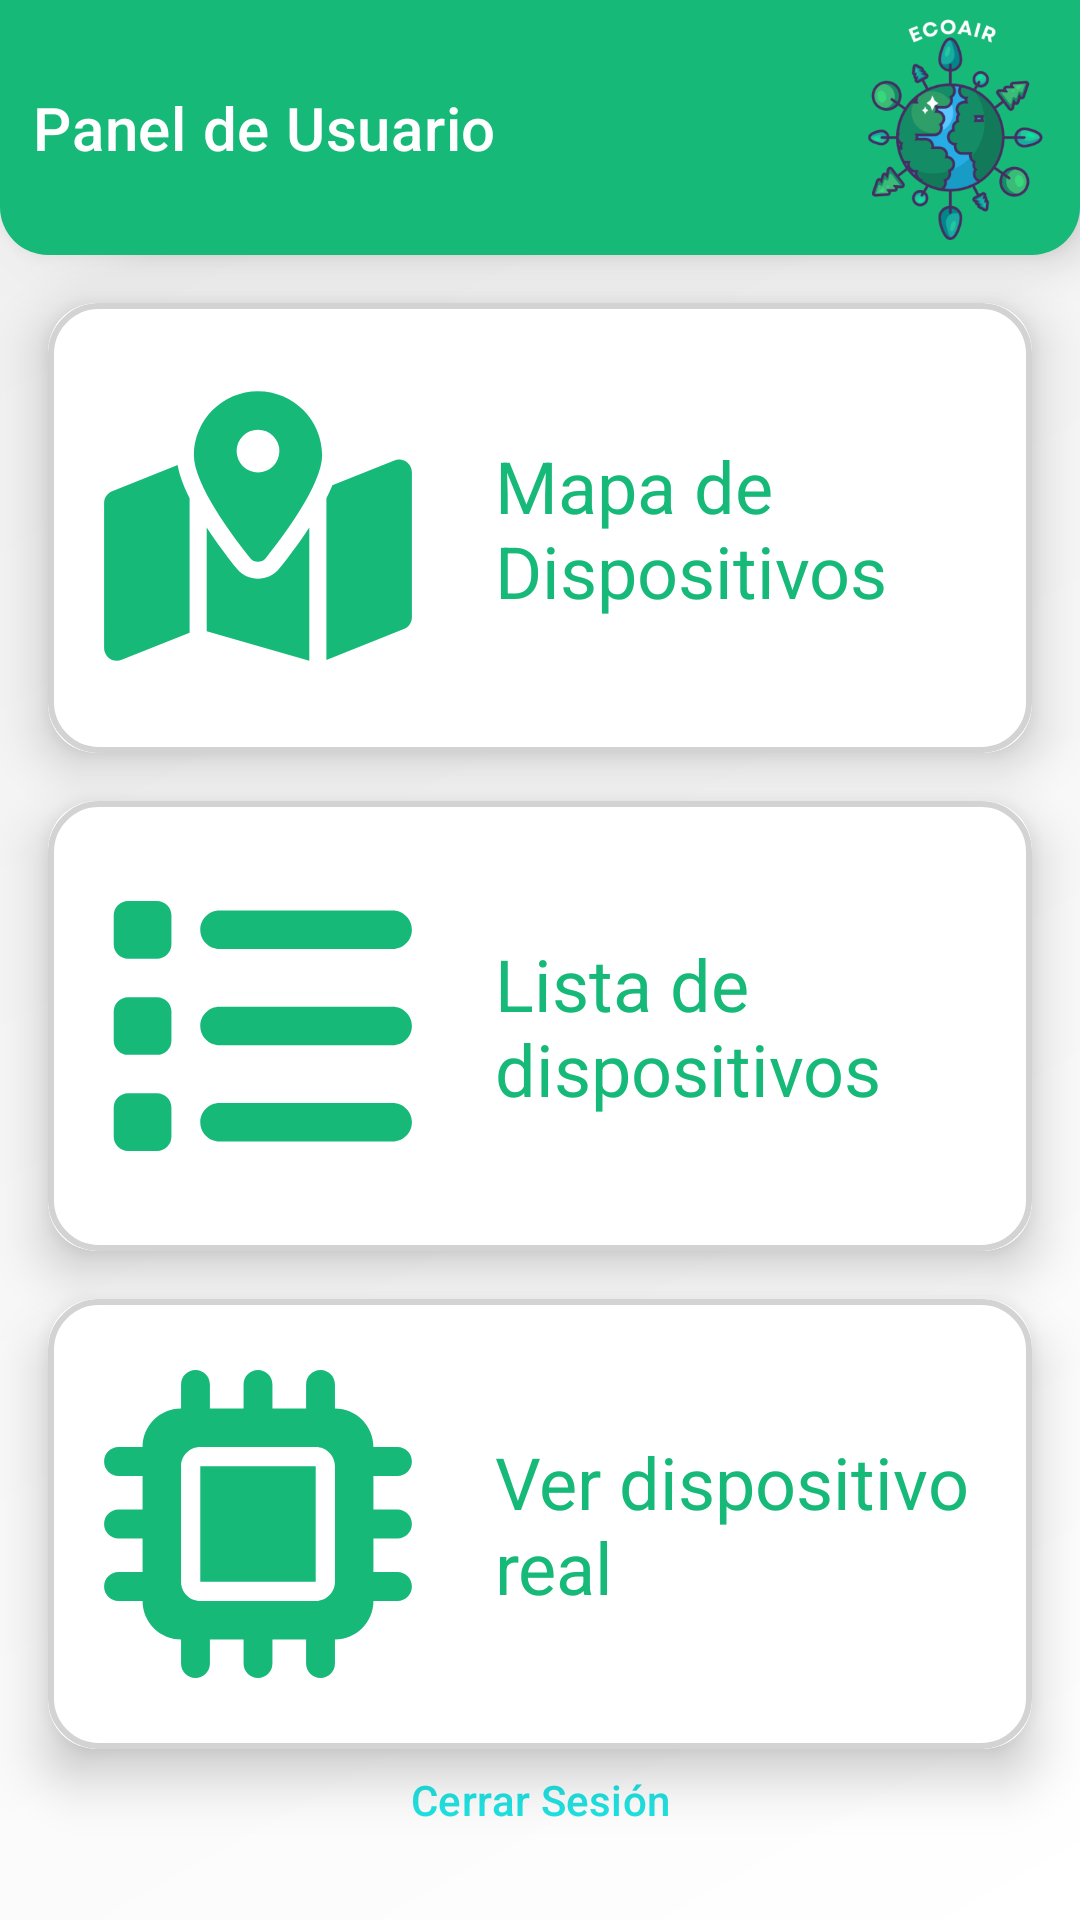

Screen size 1080px×1920px. Icon name, then its center in pixels as [x,y]:
chip: [258,1524]
map: [258,526]
